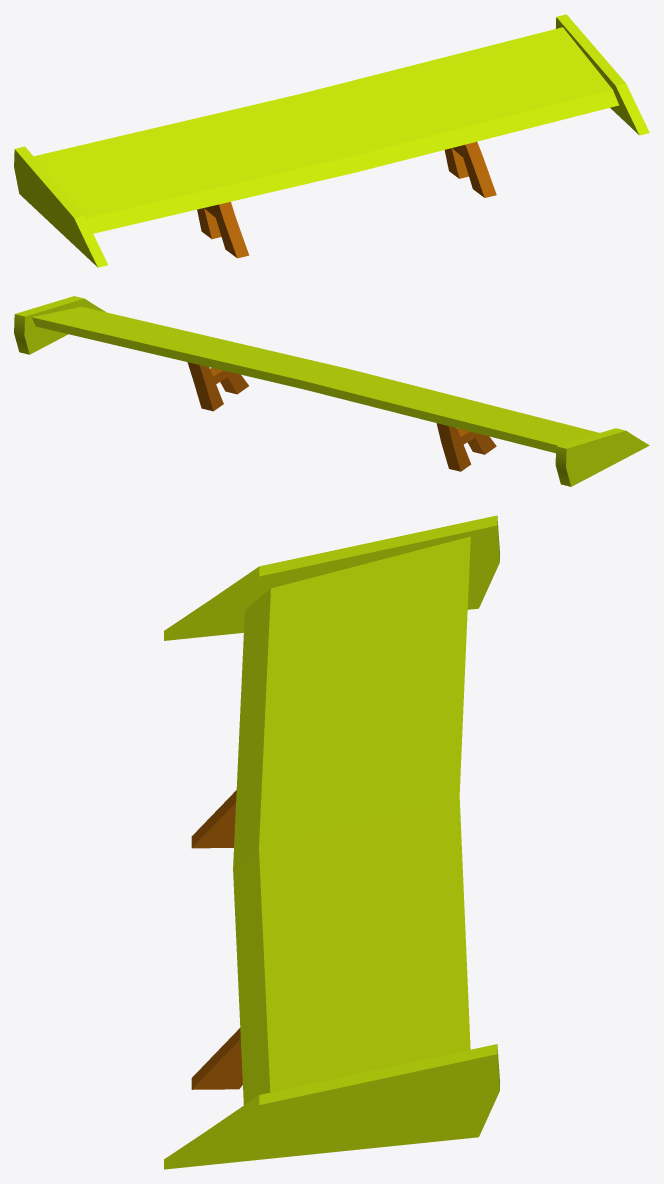
Rendered from Spoiler04_ColorCoded.fbx.
3 views of the same model, one above another, from view 1: azimuth 30°, elevation 25°; view 2: azimuth 150°, elevation 25°; view 3: azimuth 270°, elevation 25° (orthographic). The views are drawn at different scales.
Visible parts, largest first — view 1: Spoiler04; view 2: Spoiler04; view 3: Spoiler04.
Part boxes in pixels (x1,y1,x2,y2): Spoiler04: (14, 14, 649, 267); Spoiler04: (14, 296, 649, 486); Spoiler04: (164, 515, 499, 1169).
Bounding box in the file's own units: 46.07 × 12.14 × 7.12.
